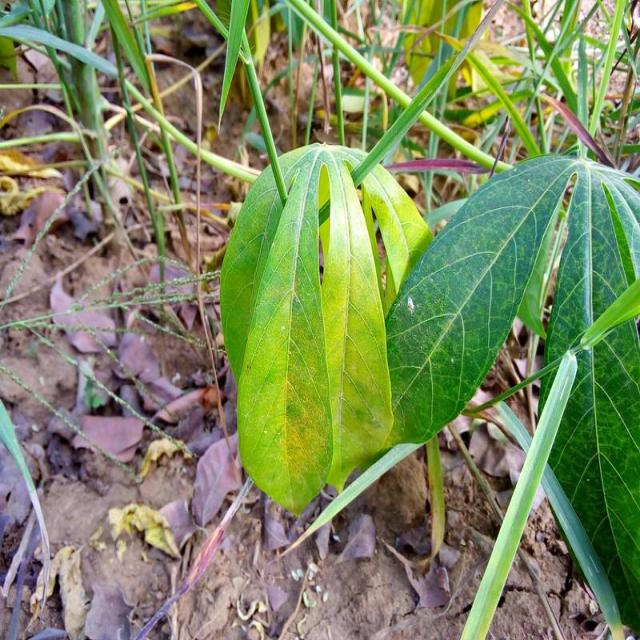cassava leaf: (218, 140, 432, 516), (534, 160, 640, 636)
